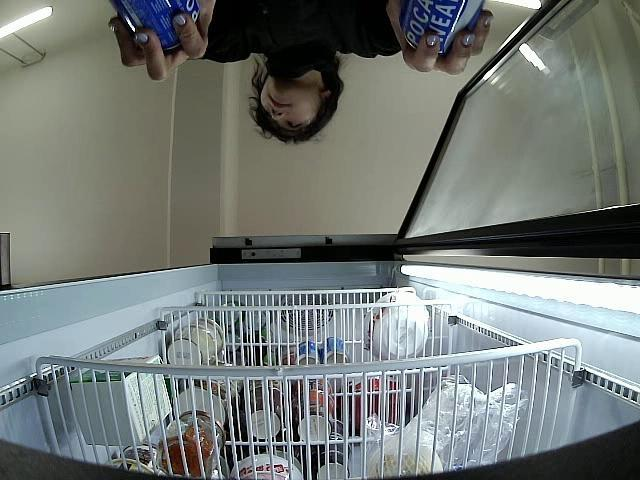13_pocariSweat: (400, 0, 485, 60), (106, 0, 200, 54)
